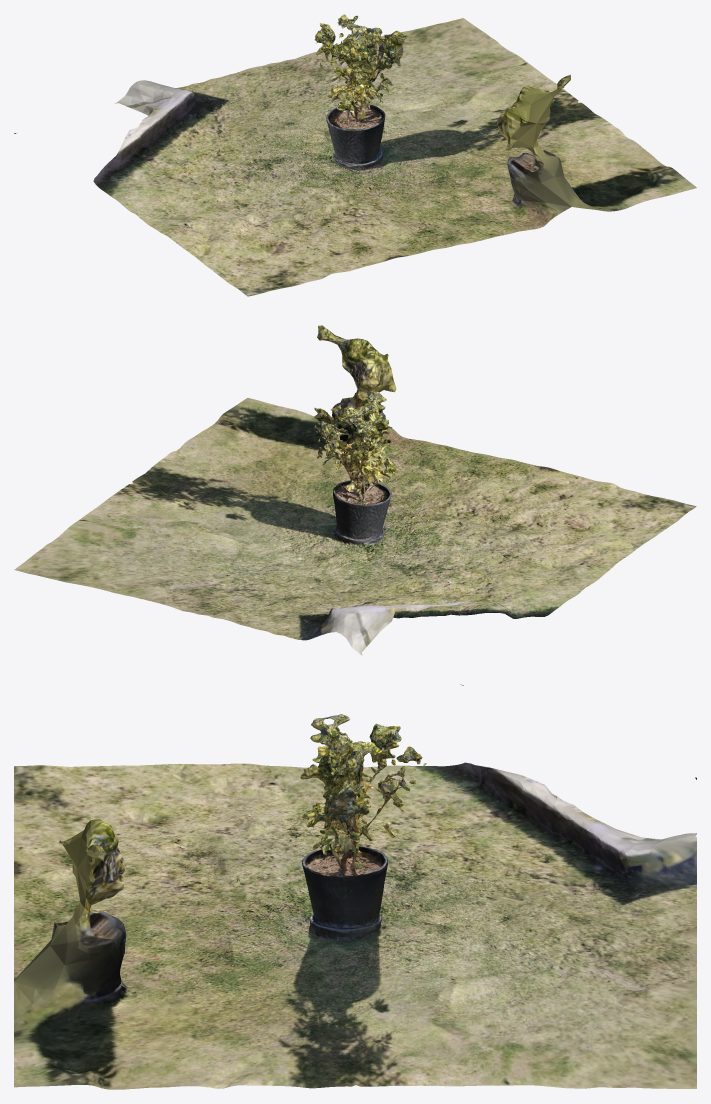
The picture shows the model from 3 angles, top to bottom: view 1: azimuth 30°, elevation 25°; view 2: azimuth 150°, elevation 25°; view 3: azimuth 270°, elevation 25°; orthographic projection. The views are drawn at different scales.
Bounding box in the file's own units: 2.96 × 0.9268 × 2.67.
Materials: 1 (1 with a texture image).
